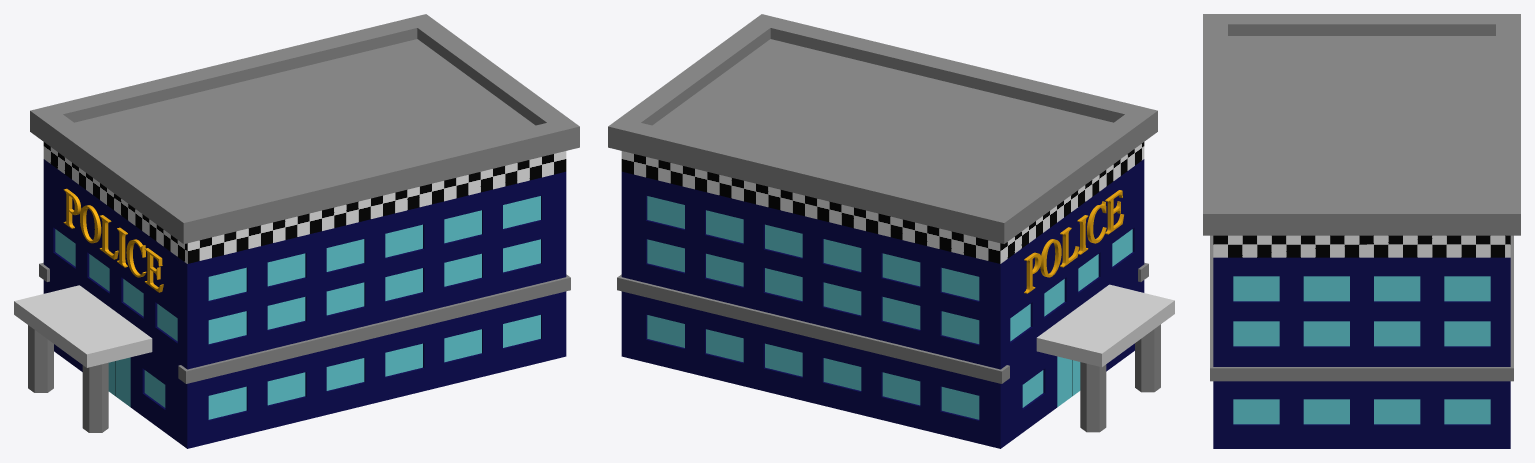
File: Police.fbx
3 renders of one model, left to right at view 1: azimuth 30°, elevation 25°; view 2: azimuth 150°, elevation 25°; view 3: azimuth 270°, elevation 25°, orthographic. The views are drawn at different scales.
Visible parts, largest first — view 1: Model; view 2: Model; view 3: Model.
Boxes of the visible parts, x1,y1,x2,y2 form: Model: (14,14,579,448); Model: (608,14,1174,448); Model: (1203,14,1520,448).
Bounding box in the file's own units: 337 × 165 × 198.
